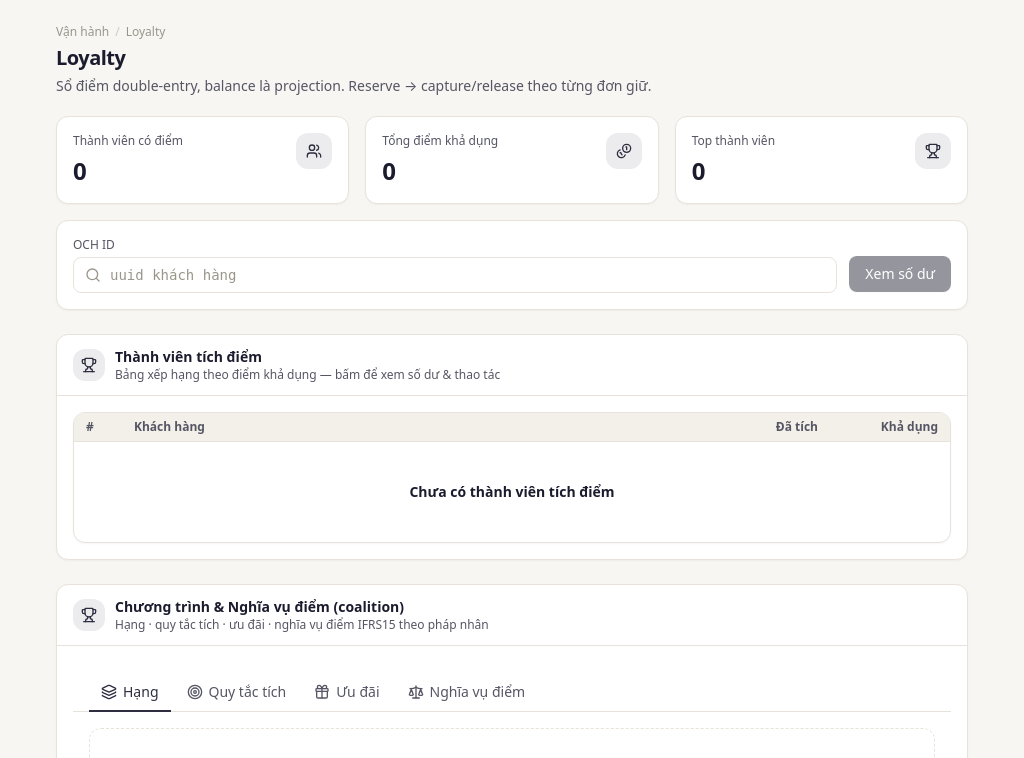
LoyaltyScreen › xem số dư hiển thị available/reserved từ API
Type "11111111-1111-1111-1111-111111111111" into the field named "och id". click: (455, 275)
box: [73,257,837,293]
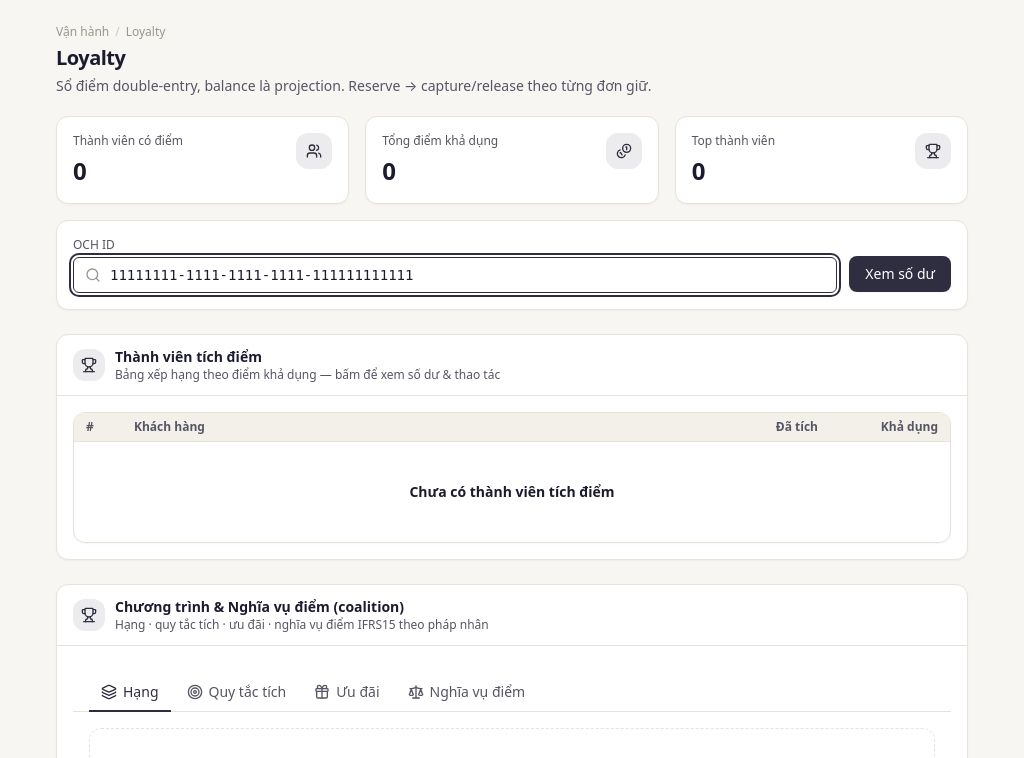
Click the button "Xem số dư". click: (900, 274)
box: [849,256,951,292]
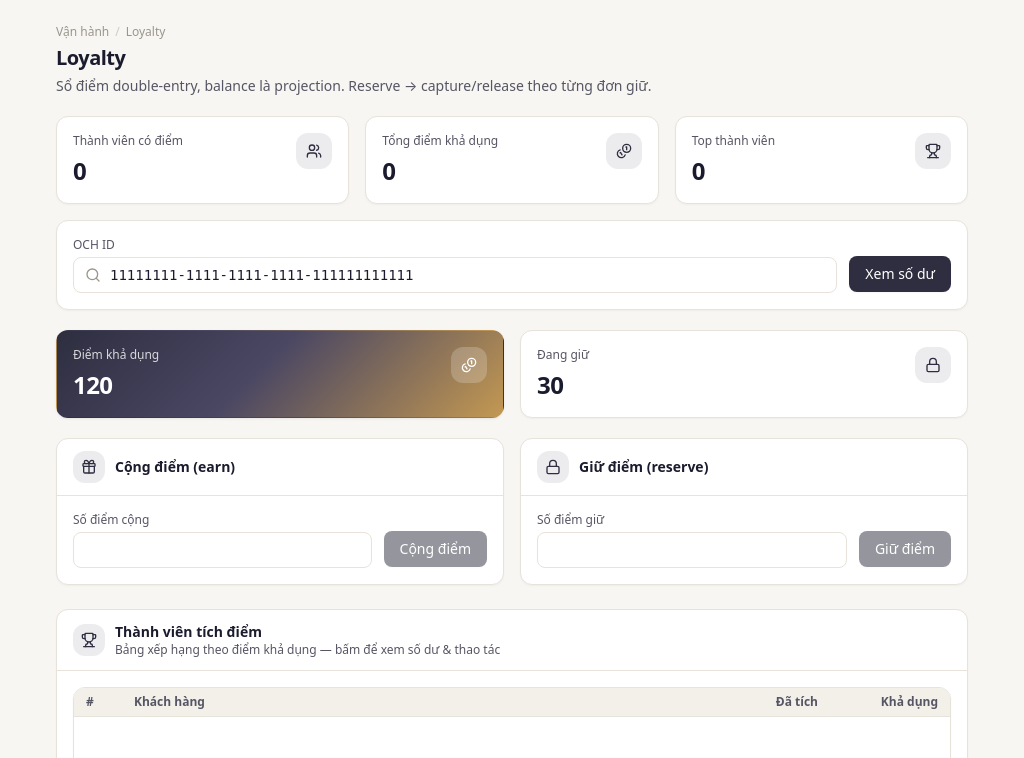
expect the text with test id "bal-available" reads "120": met, box [73,368,112,401]
expect the text with test id "bal-reserved" reads "30": met, box [537,368,563,401]
